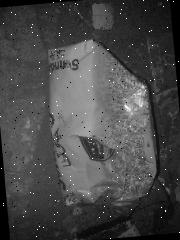general: (43, 35, 162, 218)
